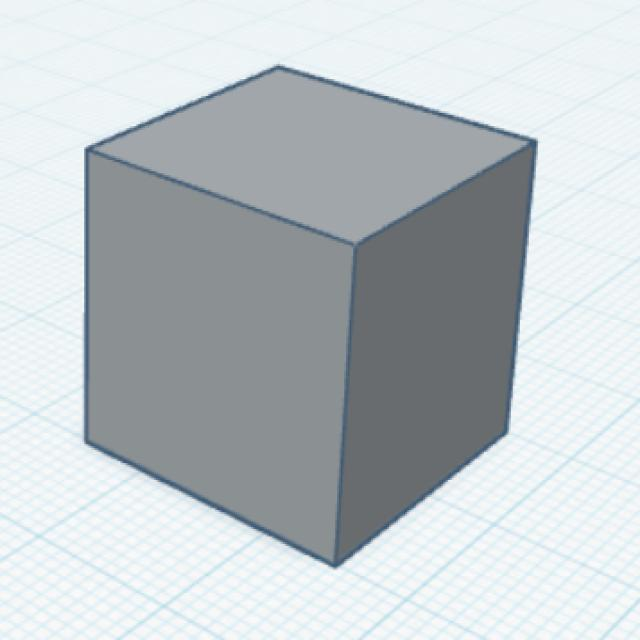cube: (79, 60, 542, 572)
